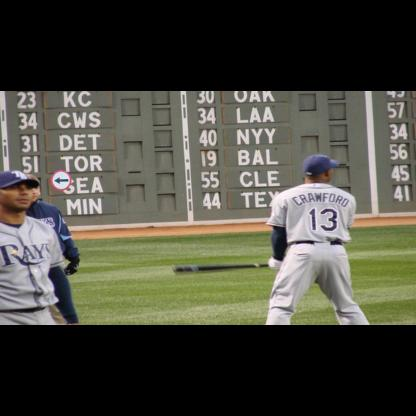R-24a: (51, 170, 71, 190)
